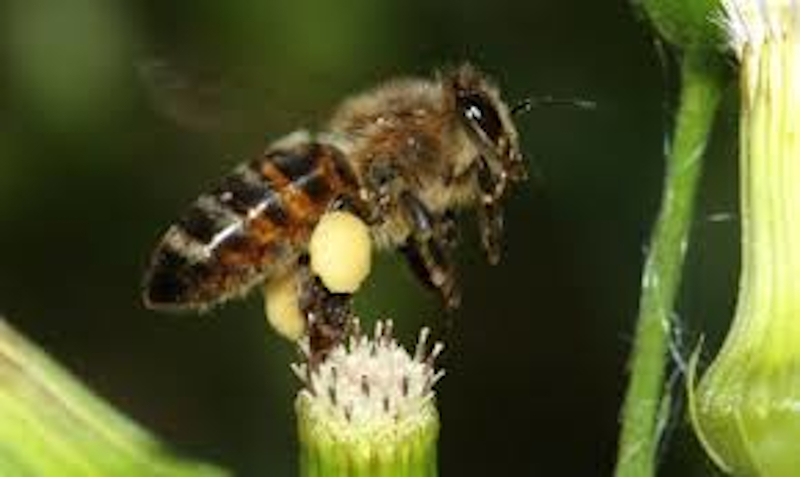abeja: (85, 42, 611, 410)
